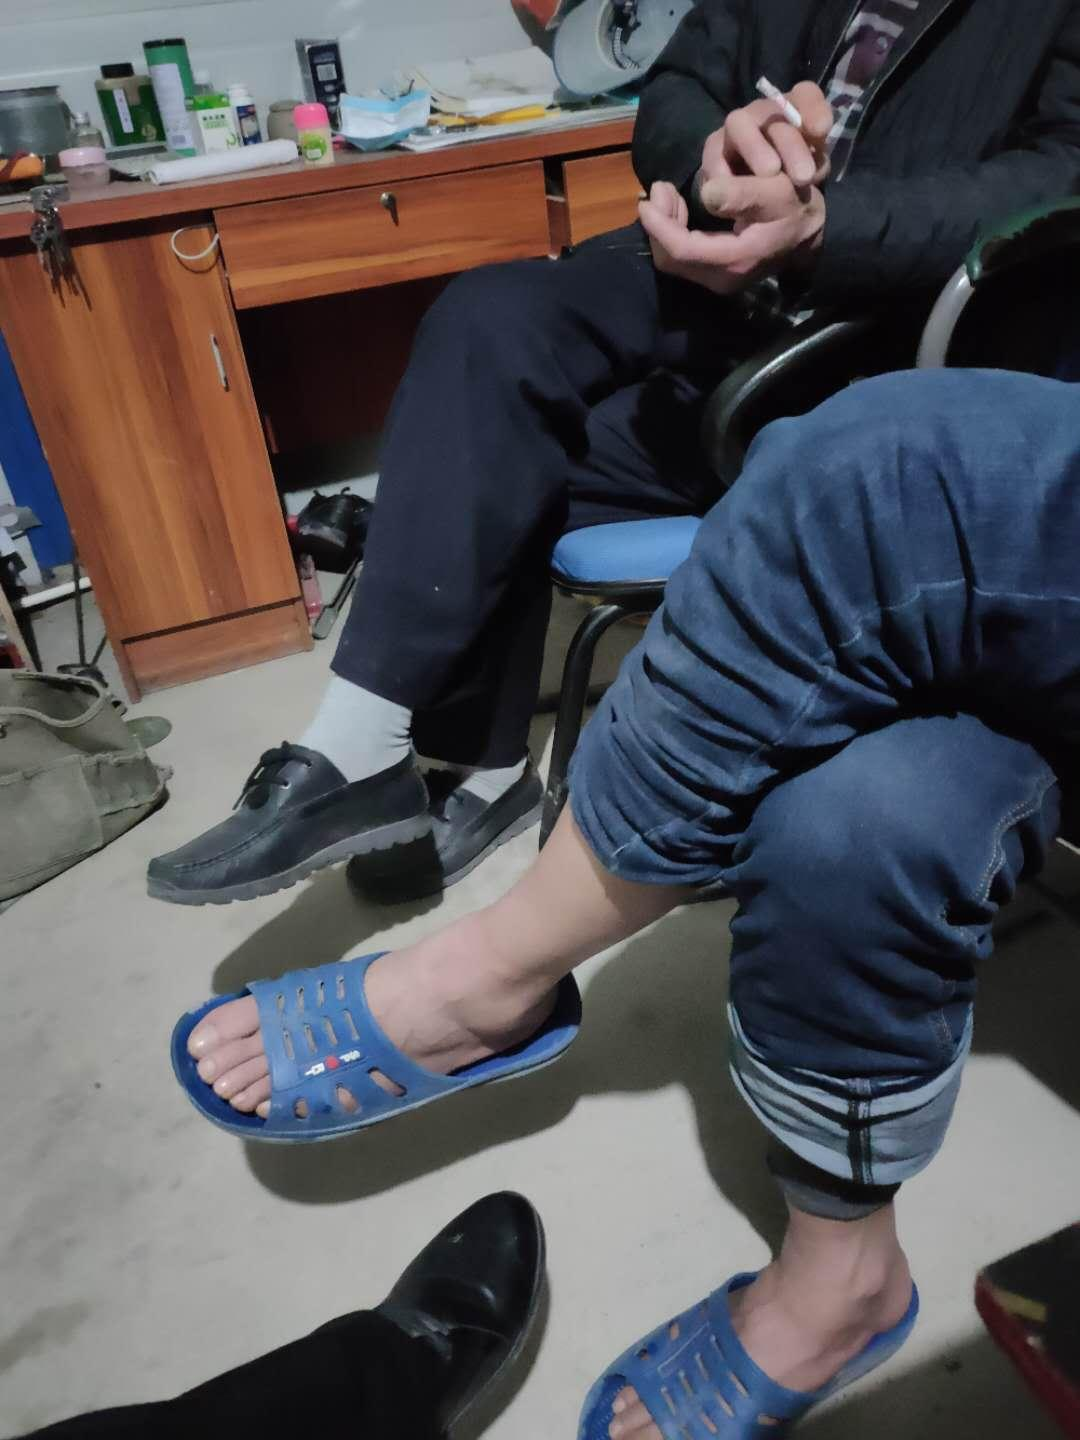Cigarette: (762, 78, 804, 126)
